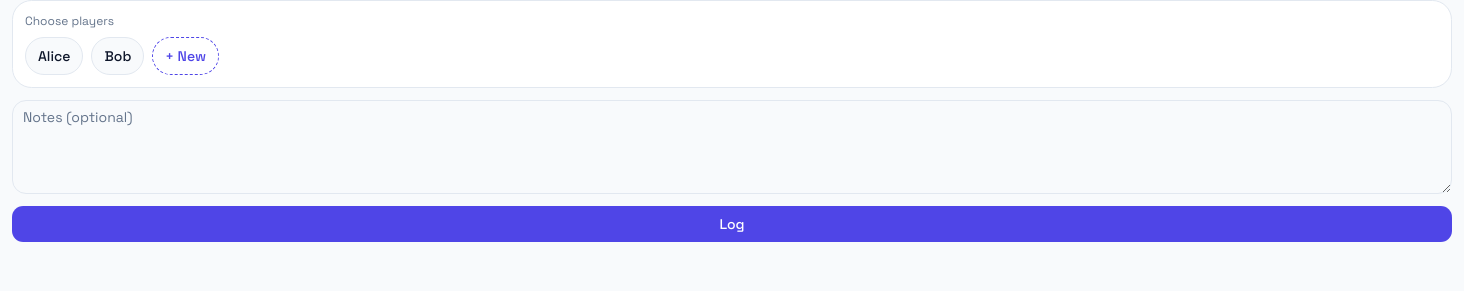
Scenario: SessionForm single-grid select-then-score › rejects a + New name that is already on the roster, with an inline error
Click the button "+ New".
click(186, 56)  # box [152,37,219,75]
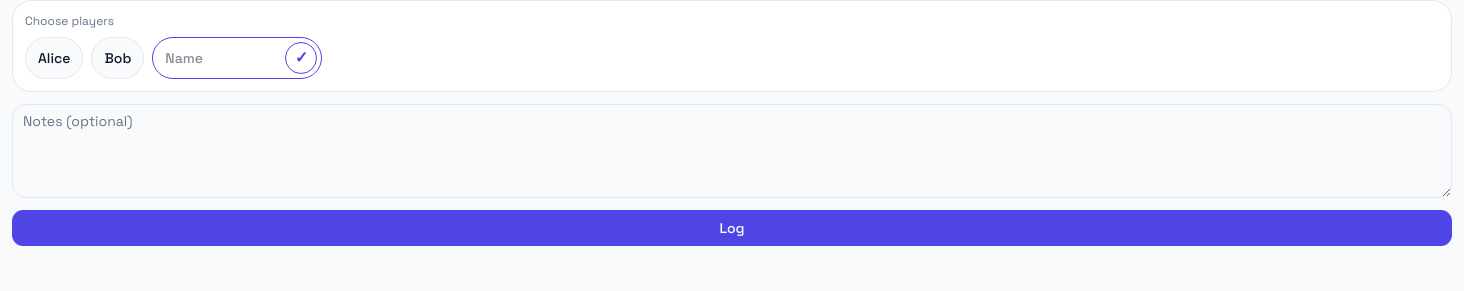
Type "alice" into the field named "new player name".
click(221, 58); type("alice")  # box [165,48,277,68]
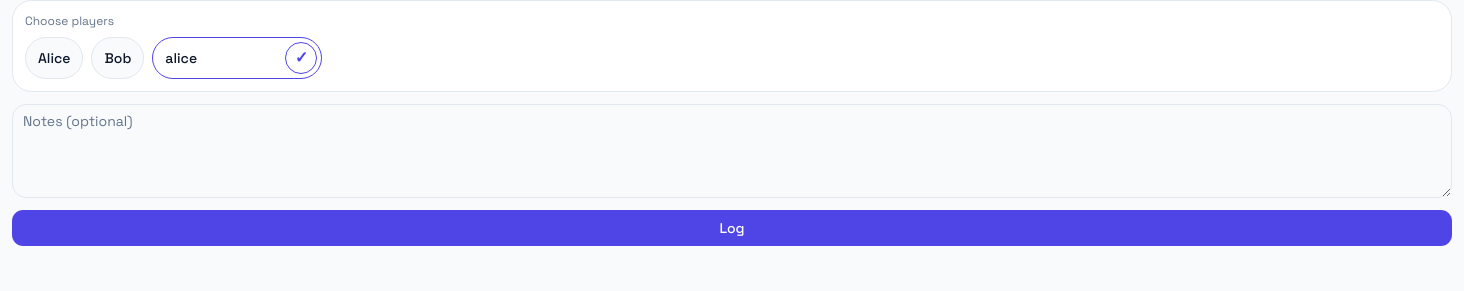
Press the mouse on the button named "add player" at (301, 58), box [285,42,317,74]
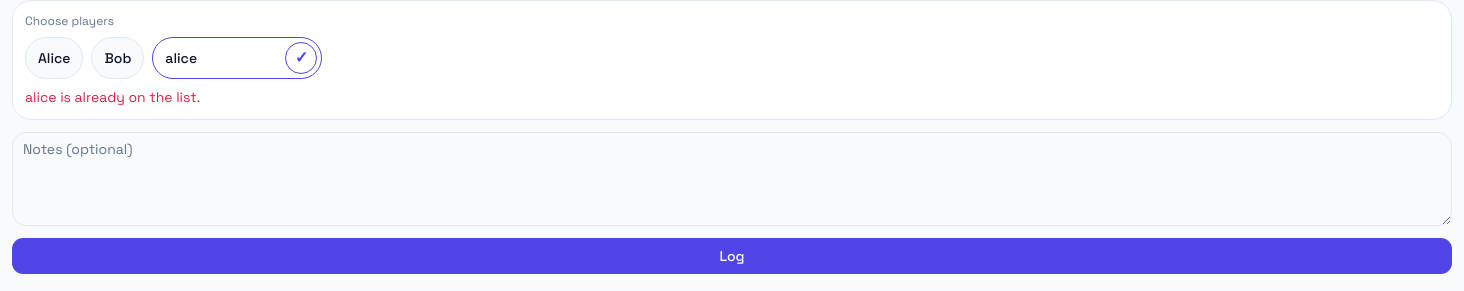
Expected: the text "alice is already on the list." is shown, [25,88,200,106]
